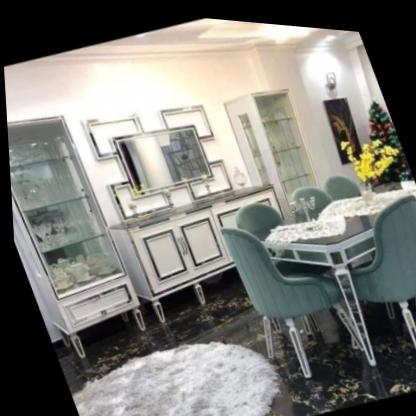Cupboard: (6, 116, 141, 359), (107, 181, 280, 313), (224, 84, 322, 219)
